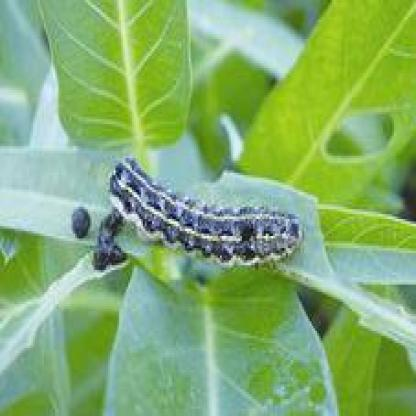armyworm: (104, 149, 308, 291)
